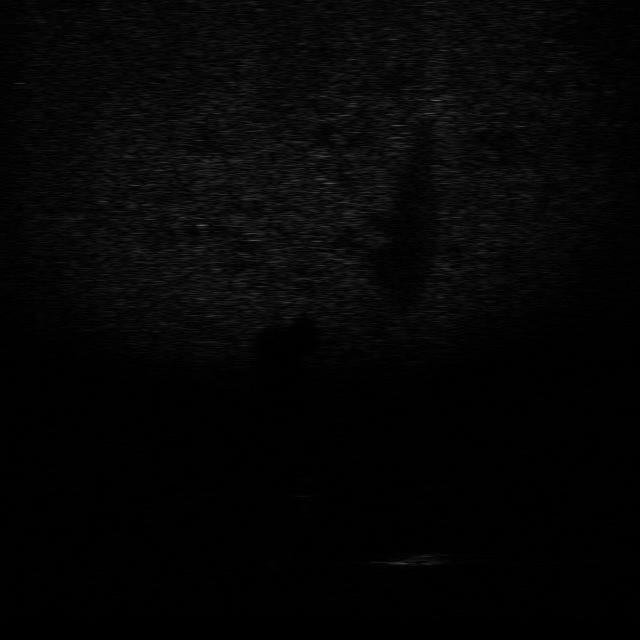ball: (282, 475, 324, 499)
metal bucket: (377, 547, 452, 571)
tyre: (262, 544, 308, 574)
